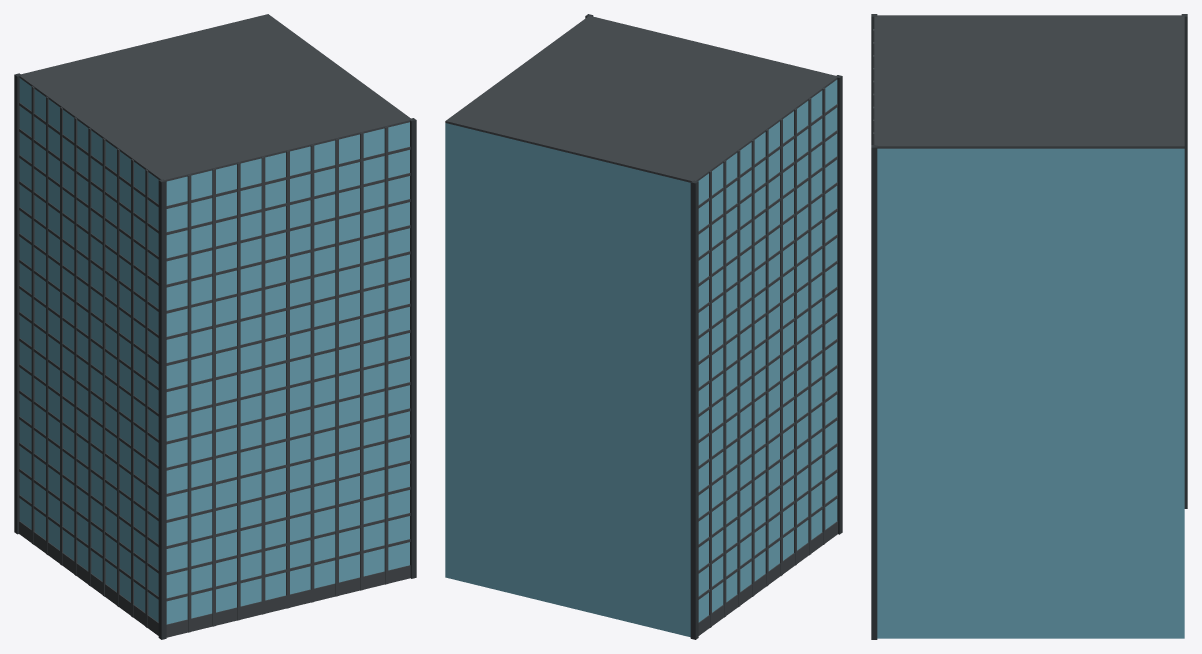
The model's file is House_01.fbx.
The picture shows the model from 3 angles, left to right: view 1: azimuth 30°, elevation 25°; view 2: azimuth 150°, elevation 25°; view 3: azimuth 270°, elevation 25°; orthographic projection. The views are drawn at different scales.
Parts seen in each view (by area): view 1: House_01; view 2: House_01; view 3: House_01.
Boxes of the visible parts, x1,y1,x2,y2 form: House_01: (14, 14, 416, 639); House_01: (445, 14, 842, 639); House_01: (871, 14, 1187, 639).
Bounding box in the file's own units: 4080 × 7000 × 4080.
